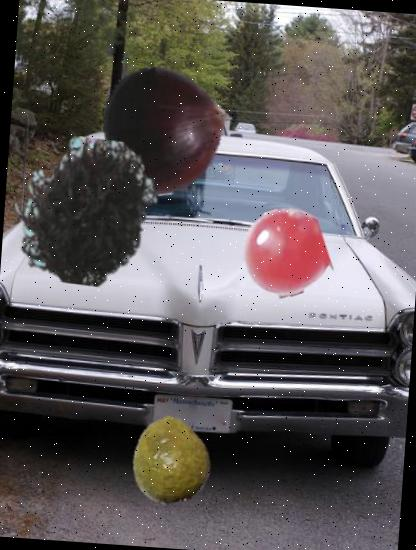Chestnut: (96, 61, 234, 199)
Guava: (124, 413, 216, 505)
Rambutan: (6, 132, 164, 290)
Redcurrant: (238, 206, 332, 300)
